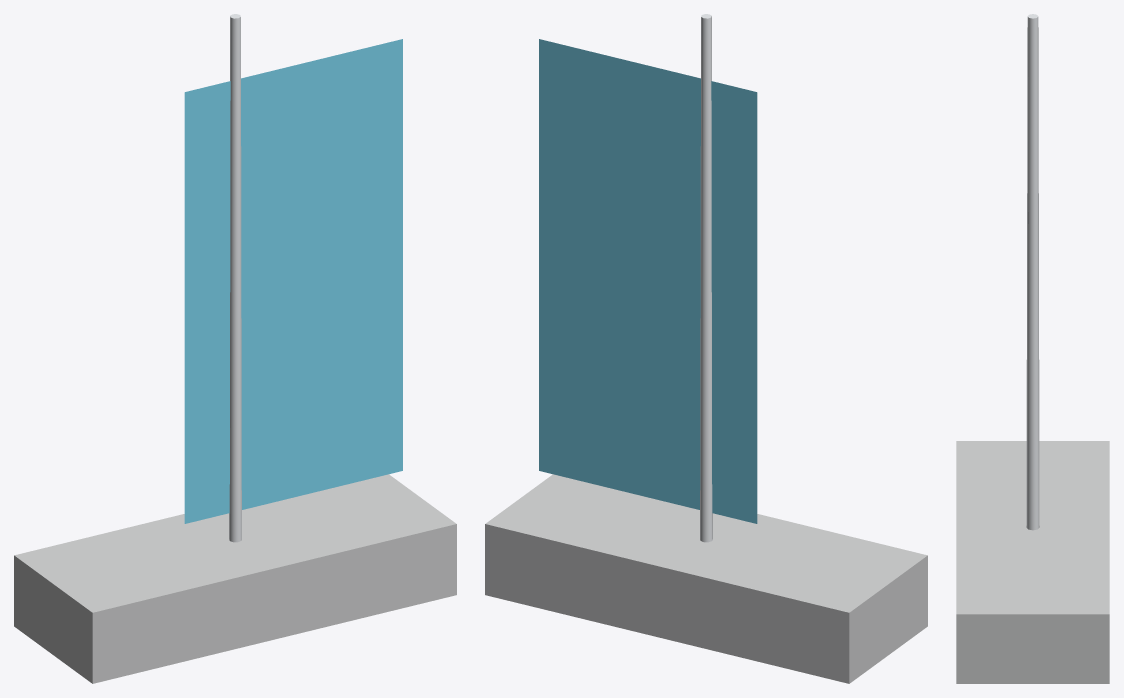
The model's file is sailboat_blue.glb.
3 views of the same model, side by side, from view 1: azimuth 30°, elevation 25°; view 2: azimuth 150°, elevation 25°; view 3: azimuth 270°, elevation 25° (orthographic). The views are drawn at different scales.
Visible parts, largest first — view 1: sail, hull, mast; view 2: sail, hull, mast; view 3: hull, mast.
Part boxes in pixels (box(x1,y1,x2,y2)): sail: box(184, 39, 402, 523); hull: box(14, 474, 456, 683); mast: box(229, 14, 241, 542); sail: box(539, 39, 757, 523); hull: box(485, 474, 927, 683); mast: box(700, 14, 712, 542); hull: box(956, 441, 1109, 683); mast: box(1026, 14, 1039, 530).
Bounding box in the file's own units: 7.5 × 11.7 × 2.8.
